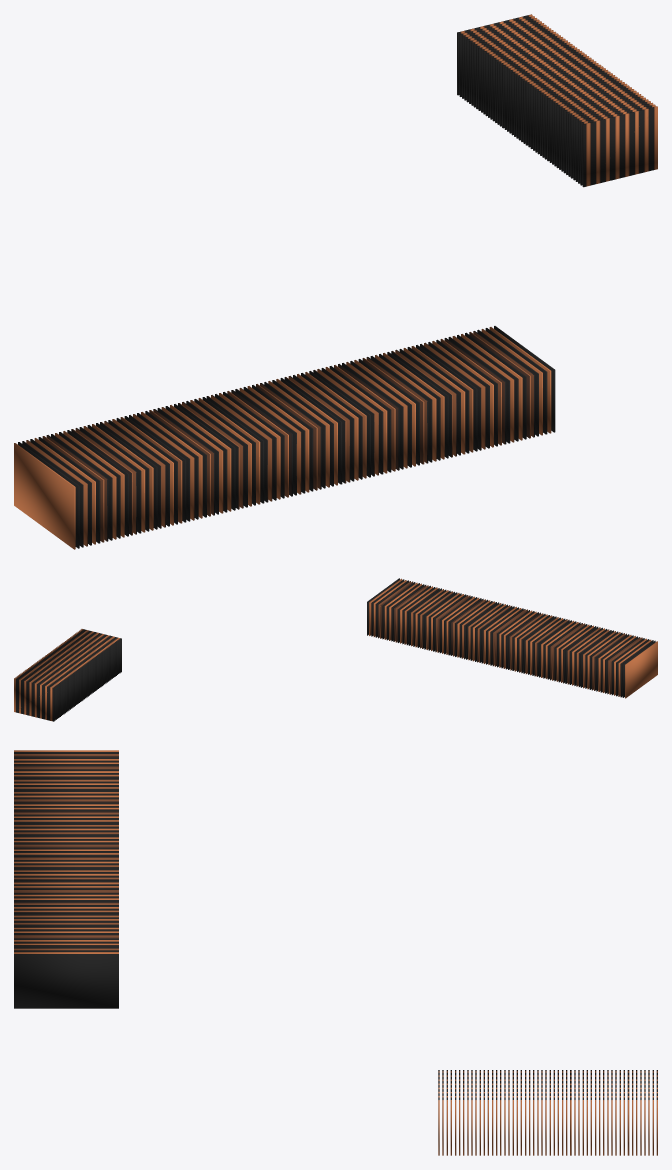
File: cooling_radiator_right.obj
3 views of the same model, one above another, from view 1: azimuth 30°, elevation 25°; view 2: azimuth 150°, elevation 25°; view 3: azimuth 270°, elevation 25° (orthographic). The views are drawn at different scales.
Visible parts, largest first — view 1: cooling_radiator_right; view 2: cooling_radiator_right; view 3: cooling_radiator_right.
Boxes of the visible parts, bbox=[...] form: cooling_radiator_right: bbox=[14, 14, 657, 549]; cooling_radiator_right: bbox=[14, 578, 657, 721]; cooling_radiator_right: bbox=[14, 750, 657, 1155].
Bounding box in the file's own units: 111 × 8 × 86.
1 material, 1 textured.
